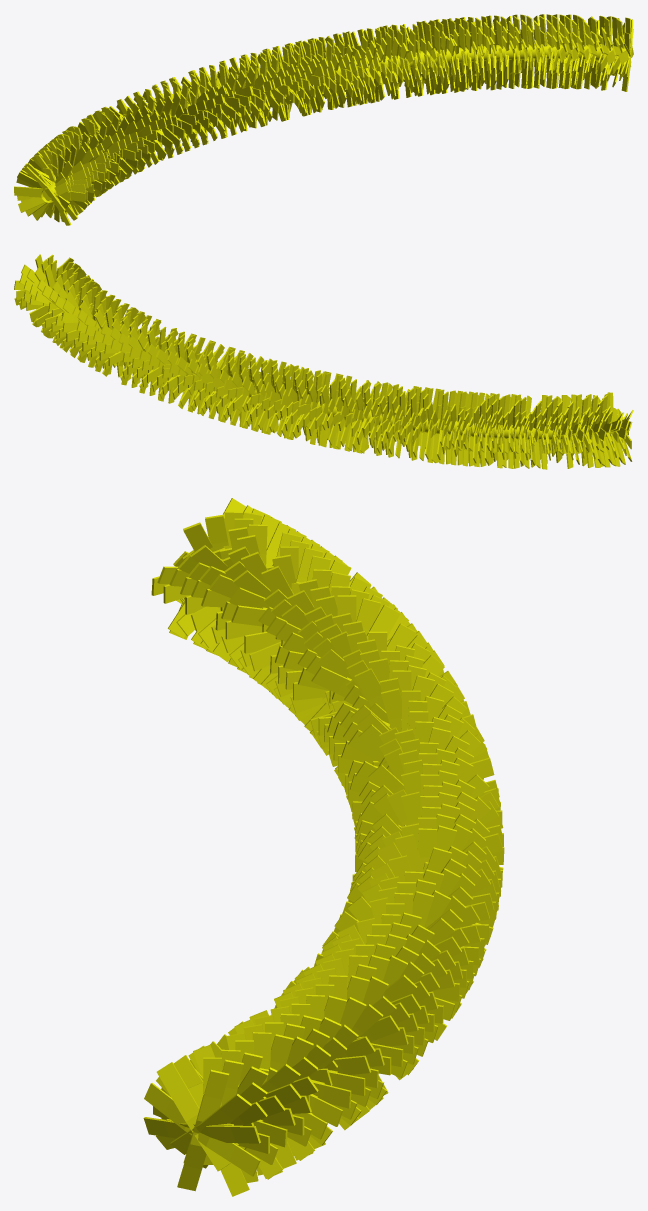
File: kerst slinger geel 1.fbx
The picture shows the model from 3 angles, top to bottom: view 1: azimuth 30°, elevation 25°; view 2: azimuth 150°, elevation 25°; view 3: azimuth 270°, elevation 25°; orthographic projection. The views are drawn at different scales.
Parts seen in each view (by area): view 1: BézierCurve, BézierCurve|Plane|Dupli|18, BézierCurve|Plane|Dupli|3, BézierCurve|Plane|Dupli|10; view 2: BézierCurve; view 3: BézierCurve|Plane|Dupli|955, BézierCurve|Plane|Dupli|947, BézierCurve|Plane|Dupli|975, BézierCurve|Plane|Dupli|951, BézierCurve|Plane|Dupli|971.
Boxes of the visible parts, x1,y1,x2,y2 form: BézierCurve: (41,44,626,202); BézierCurve|Plane|Dupli|18: (18,182,68,212); BézierCurve|Plane|Dupli|3: (23,166,65,212); BézierCurve|Plane|Dupli|10: (29,187,85,202); BézierCurve: (186,372,628,439); BézierCurve|Plane|Dupli|955: (156,1062,230,1171); BézierCurve|Plane|Dupli|947: (170,1093,251,1154); BézierCurve|Plane|Dupli|975: (191,1132,260,1176); BézierCurve|Plane|Dupli|951: (183,1069,228,1162); BézierCurve|Plane|Dupli|971: (177,1093,206,1191).
Bounding box in the file's own units: 273 × 28.54 × 69.12.
